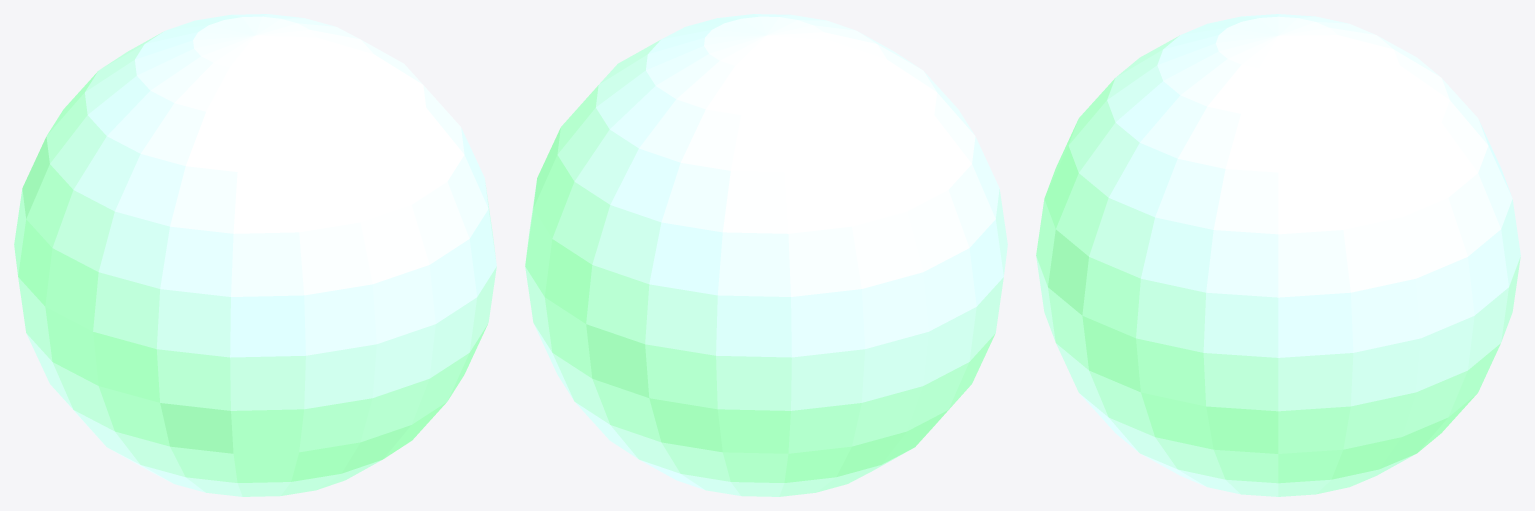
The model's file is jade.glb.
3 renders of one model, left to right at view 1: azimuth 30°, elevation 25°; view 2: azimuth 150°, elevation 25°; view 3: azimuth 270°, elevation 25°, orthographic.
Parts seen in each view (by area): view 1: jade; view 2: jade; view 3: jade.
Boxes of the visible parts, left/top/right/bottom form: jade: left=14, top=14, right=496, bottom=496; jade: left=525, top=14, right=1007, bottom=496; jade: left=1036, top=14, right=1520, bottom=496.
Size of the model in its own units: 0.28 by 0.28 by 0.28.
